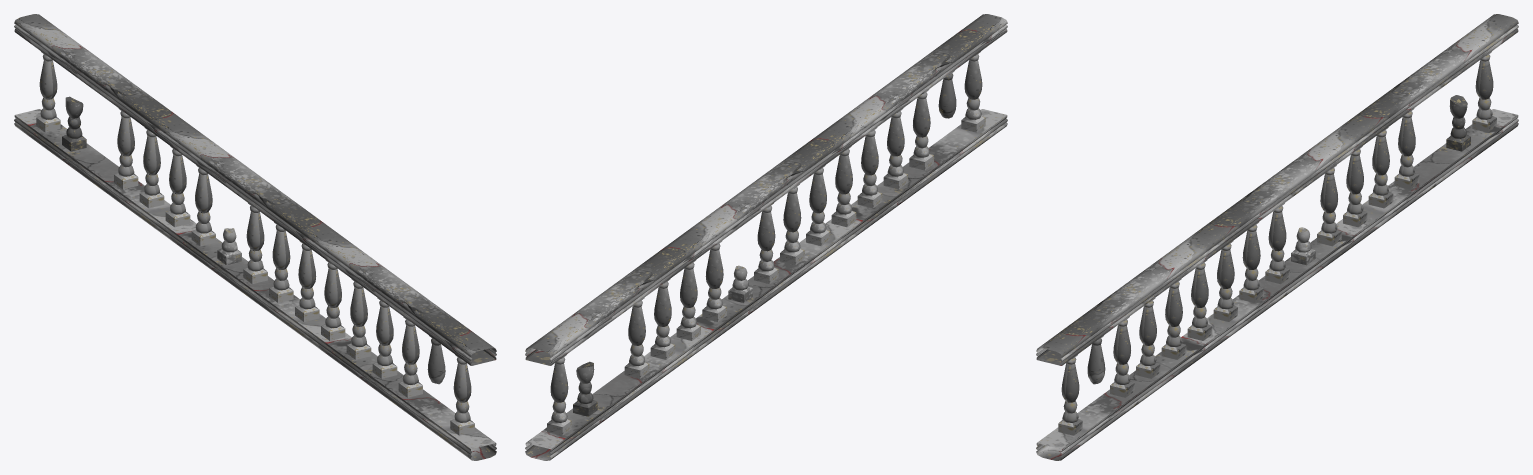
File: Railing_3.fbx
The picture shows the model from 3 angles, left to right: view 1: azimuth 30°, elevation 25°; view 2: azimuth 150°, elevation 25°; view 3: azimuth 330°, elevation 25°; orthographic projection.
Parts seen in each view (by area): view 1: Railing_3; view 2: Railing_3; view 3: Railing_3.
Part boxes in pixels (bbox=[...]): Railing_3: bbox=[14, 14, 496, 460]; Railing_3: bbox=[525, 14, 1007, 460]; Railing_3: bbox=[1036, 14, 1518, 460].
Size of the model in its own units: 21.8 by 86.75 by 656.
